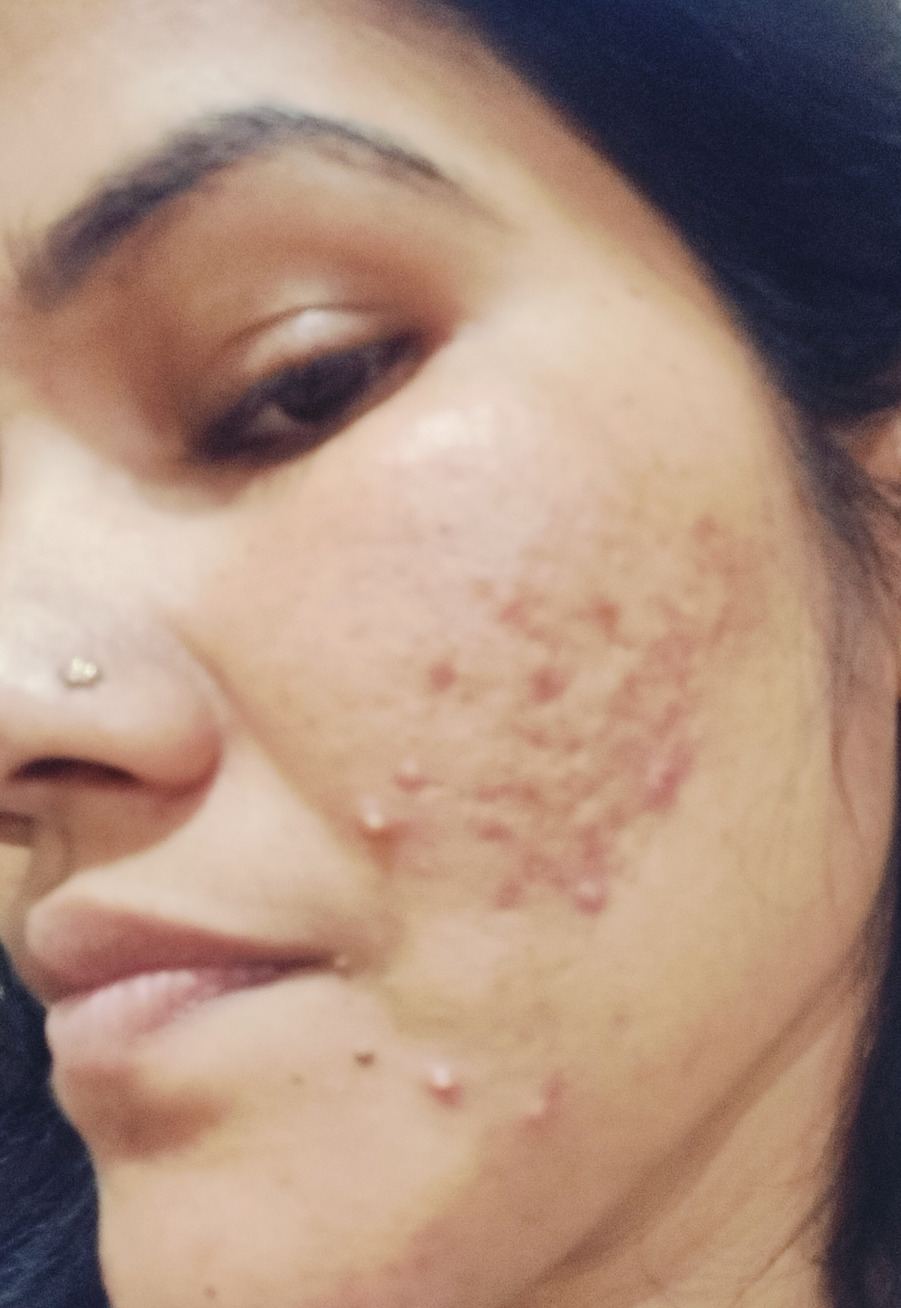papule: (508, 1069, 577, 1145), (559, 851, 622, 929), (637, 748, 702, 817), (525, 649, 581, 720), (585, 584, 635, 649), (430, 646, 471, 709), (396, 750, 439, 806)
pustule: (415, 1048, 473, 1128), (352, 787, 406, 862)
